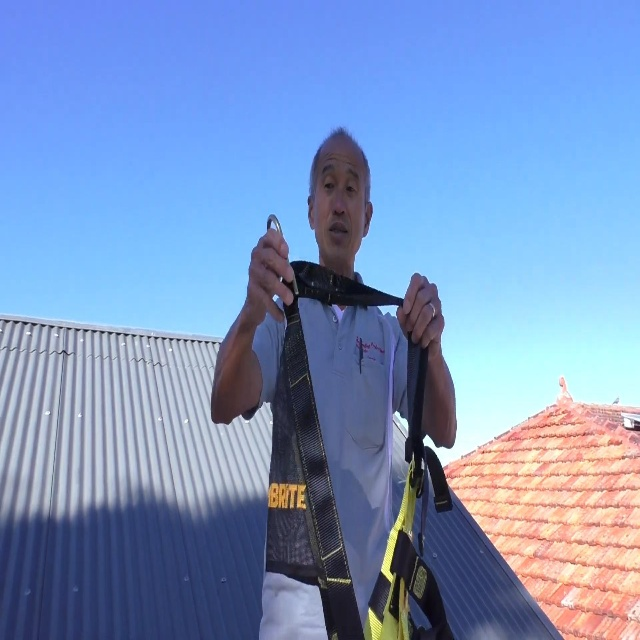Arnes_seguridad: (258, 250, 466, 640)
